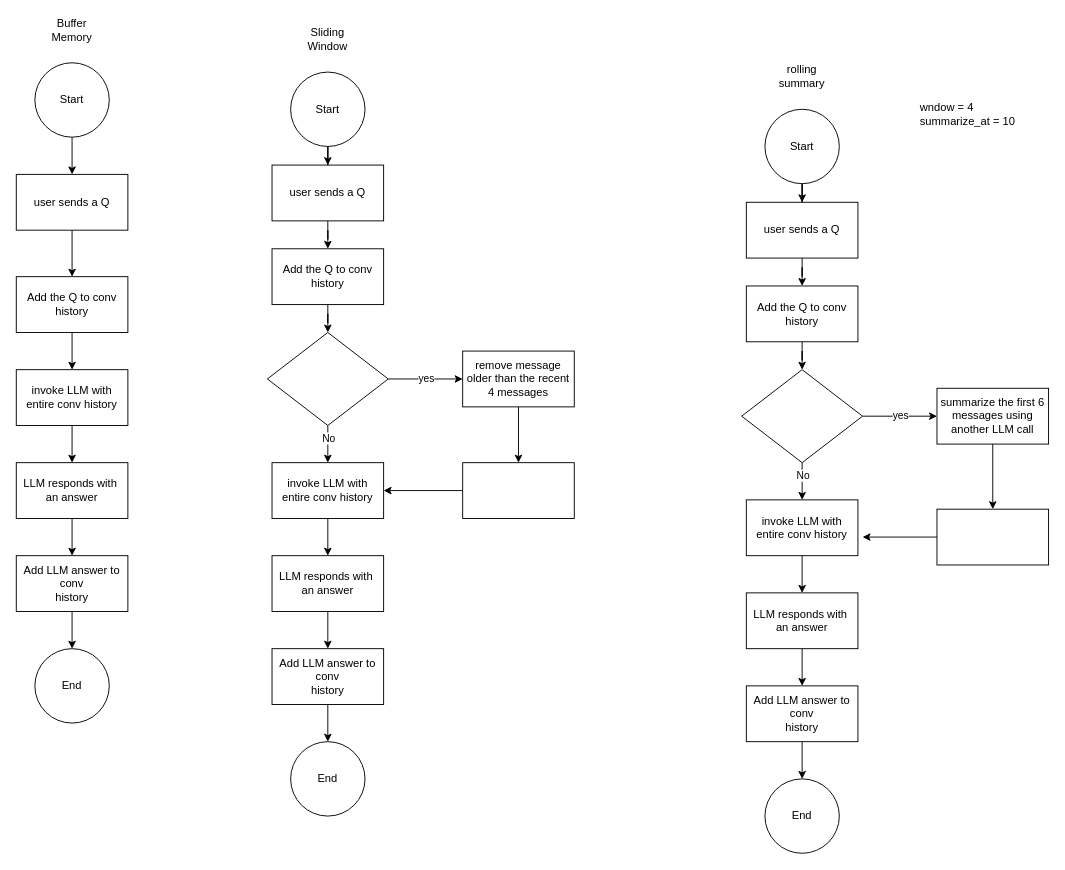
This 1065x870 diagram has some shape labels left out. The box of each missing label's shape, as (x1, y1, x2, y2) in pixels:
are there more than 10 messages?: (741, 369, 863, 463)
are there more than 4 messages?: (266, 332, 388, 425)
keep the most recent 4 messages + the summary only: (936, 508, 1049, 565)
still keep the system prompt as the very first message: (462, 462, 574, 518)
